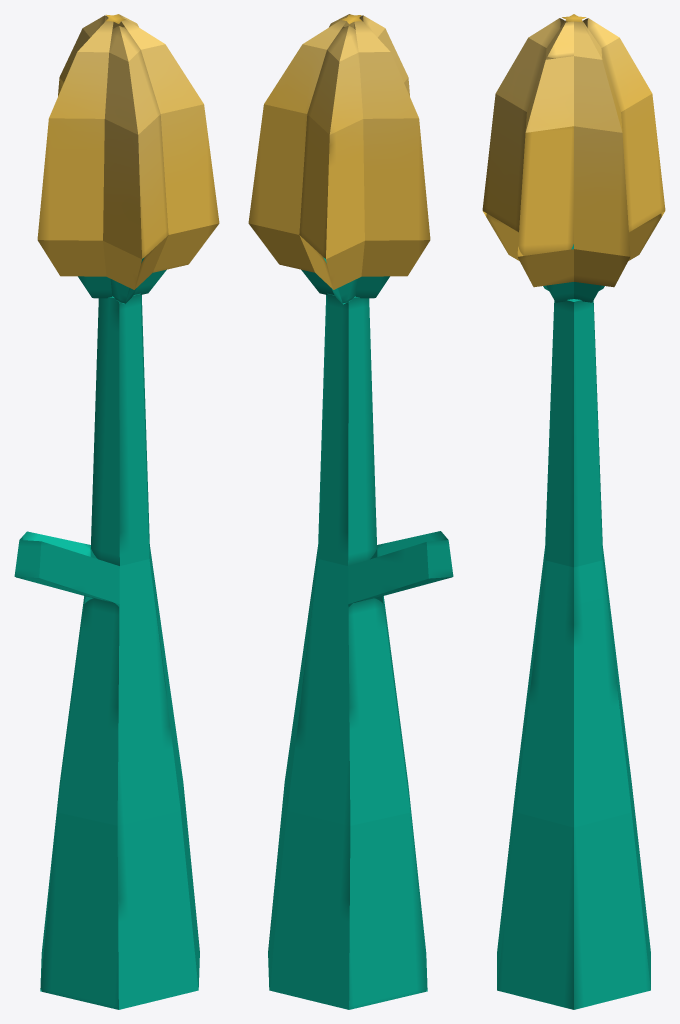
The picture shows the model from 3 angles, left to right: view 1: azimuth 30°, elevation 25°; view 2: azimuth 150°, elevation 25°; view 3: azimuth 270°, elevation 25°; orthographic projection.
Visible parts, largest first — view 1: SF2; view 2: SF2; view 3: SF2.
Boxes of the visible parts, left/top/right/bottom form: SF2: left=14, top=14, right=219, bottom=1009; SF2: left=248, top=14, right=453, bottom=1009; SF2: left=482, top=14, right=665, bottom=1009.
Bounding box in the file's own units: 13.87 × 68.17 × 11.9.
1 material, 1 textured.
